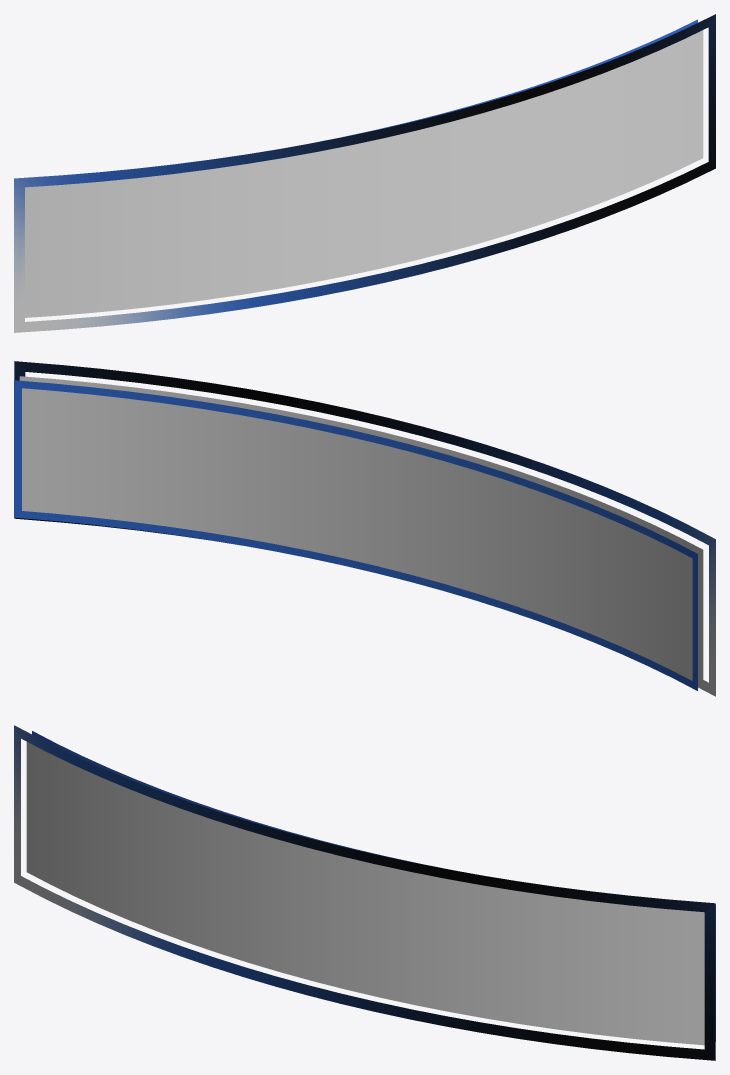
The model's file is ___button_21x3.fbx.
3 views of the same model, one above another, from view 1: azimuth 30°, elevation 25°; view 2: azimuth 150°, elevation 25°; view 3: azimuth 330°, elevation 25° (orthographic). The views are drawn at different scales.
Visible parts, largest first — view 1: ___button_21x3, ___glow, ___frame; view 2: ___button_21x3, ___frame, ___glow; view 3: ___button_21x3, ___glow, ___frame.
Part boxes in pixels (left/top/right/bottom): ___button_21x3: left=25, top=30, right=703, bottom=317; ___glow: left=14, top=14, right=715, bottom=332; ___frame: left=310, top=19, right=697, bottom=143; ___button_21x3: left=19, top=376, right=703, bottom=686; ___frame: left=14, top=380, right=697, bottom=690; ___glow: left=14, top=361, right=715, bottom=696; ___button_21x3: left=26, top=742, right=704, bottom=1045; ___glow: left=14, top=725, right=715, bottom=1060; ___frame: left=32, top=731, right=715, bottom=1041.
Size of the model in its own units: 36.77 by 7.81 by 4.64.
